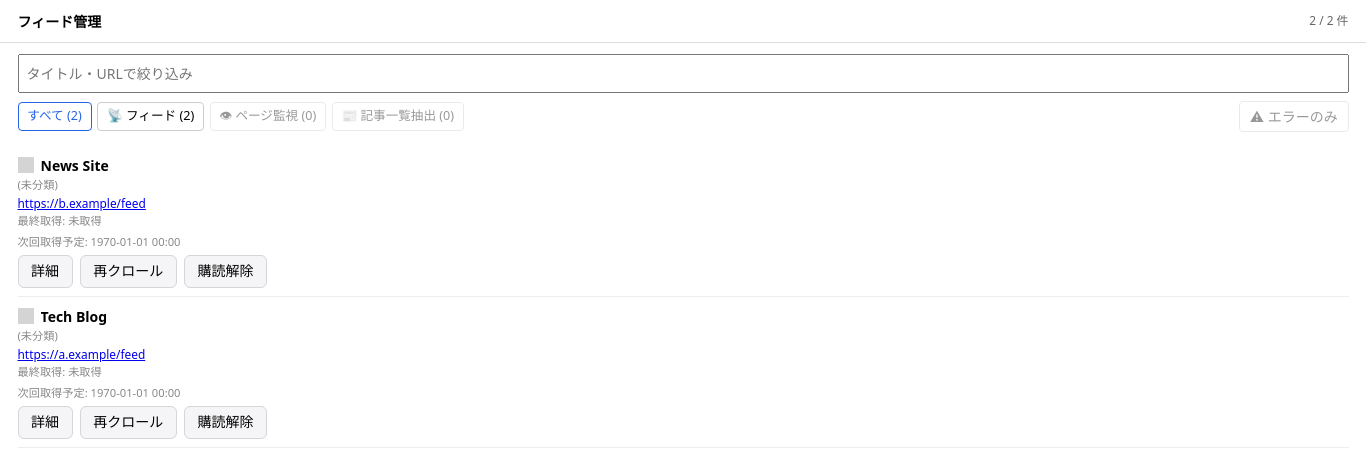
Scenario: FeedManagerPane basic search filter › filters by feed_url when the title does not match
The width and height of the screenshot is (1366, 465).
Type "b.example" into the field with placeholder "タイトル・URLで絞り込み".
click(683, 73); type("b.example")  # box [18, 54, 1348, 92]
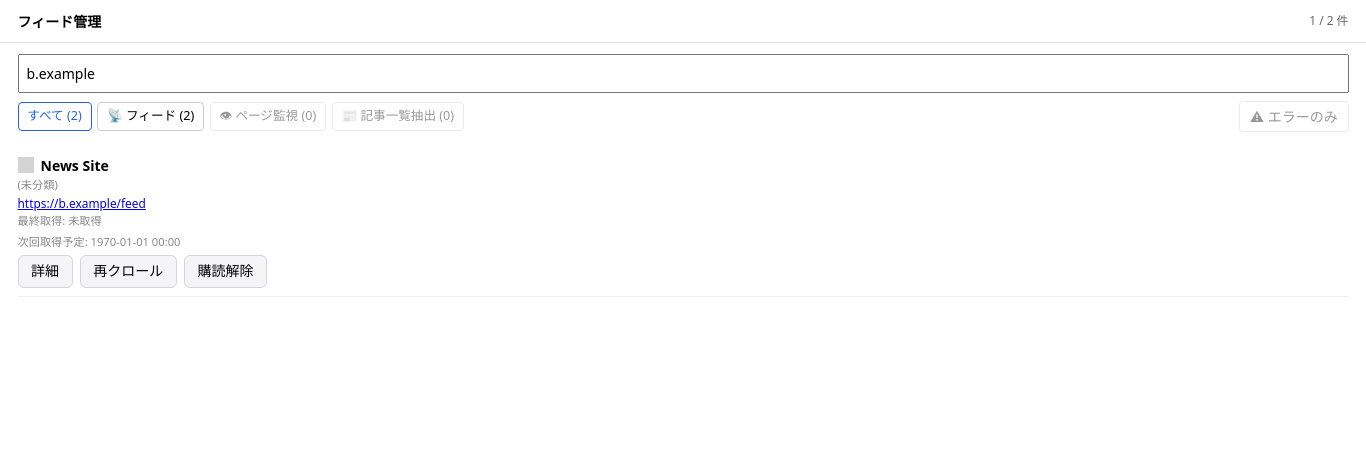
expect the text "News Site" is shown: met, box [40, 156, 109, 175]
expect the number of list items is 1: met, box [18, 146, 1348, 297]
